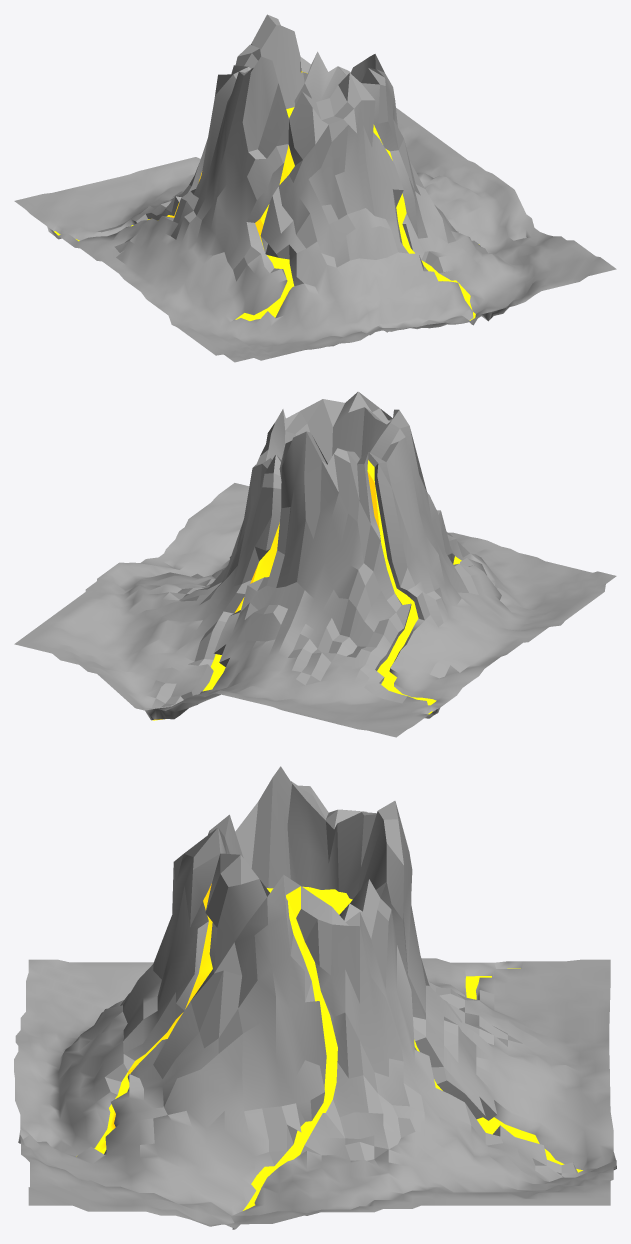
The model's file is volcano.fbx.
The picture shows the model from 3 angles, top to bottom: view 1: azimuth 30°, elevation 25°; view 2: azimuth 150°, elevation 25°; view 3: azimuth 270°, elevation 25°; orthographic projection. The views are drawn at different scales.
Visible parts, largest first — view 1: pPlane2; view 2: pPlane2; view 3: pPlane2.
Boxes of the visible parts, x1,y1,x2,y2 form: pPlane2: [14, 14, 616, 362]; pPlane2: [14, 391, 616, 737]; pPlane2: [14, 766, 616, 1229].
Bounding box in the file's own units: 56.82 × 35.2 × 57.38.
